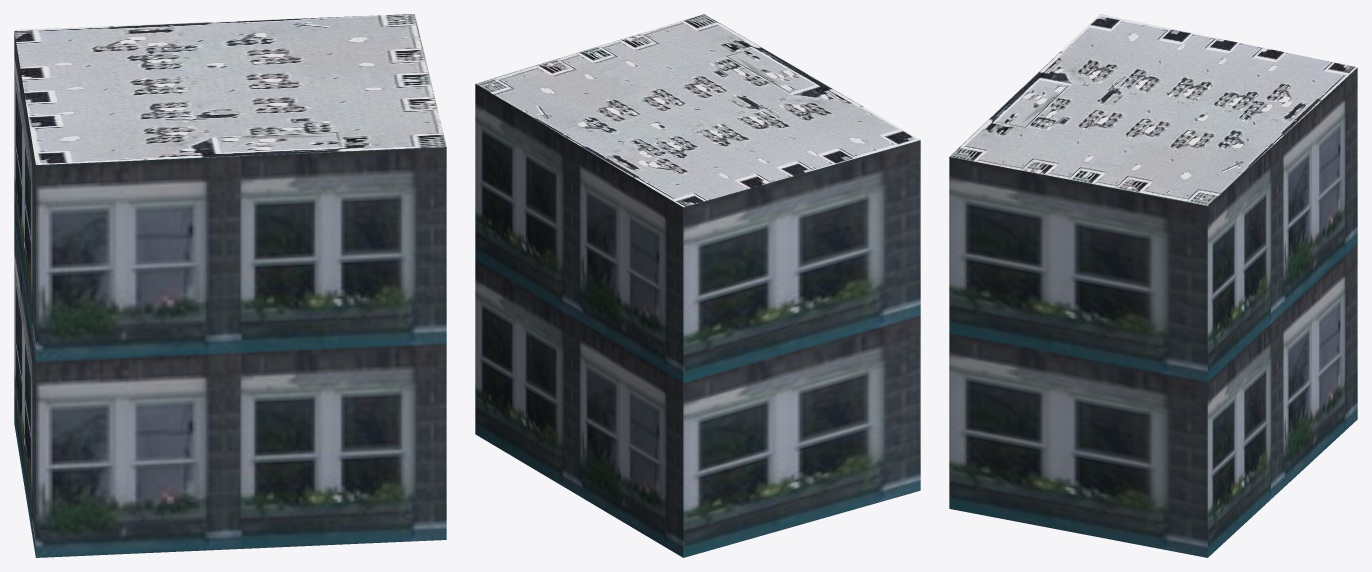
File: ResTex__567.fbx
The picture shows the model from 3 angles, left to right: view 1: azimuth 30°, elevation 25°; view 2: azimuth 150°, elevation 25°; view 3: azimuth 270°, elevation 25°; orthographic projection. The views are drawn at different scales.
Visible parts, largest first — view 1: CityEngineMaterial_11_m, CityEngineMaterial_m; view 2: CityEngineMaterial_11_m, CityEngineMaterial_m; view 3: CityEngineMaterial_11_m, CityEngineMaterial_m.
Boxes of the visible parts, left/top/right/bottom form: CityEngineMaterial_11_m: left=14, top=32, right=446, bottom=557; CityEngineMaterial_m: left=14, top=14, right=446, bottom=164; CityEngineMaterial_11_m: left=475, top=84, right=920, bottom=557; CityEngineMaterial_m: left=475, top=14, right=920, bottom=207; CityEngineMaterial_11_m: left=949, top=68, right=1357, bottom=557; CityEngineMaterial_m: left=949, top=14, right=1357, bottom=205.
Bounding box in the file's own units: 7.02 × 6 × 6.31.
Materials: 2 (2 with a texture image).
